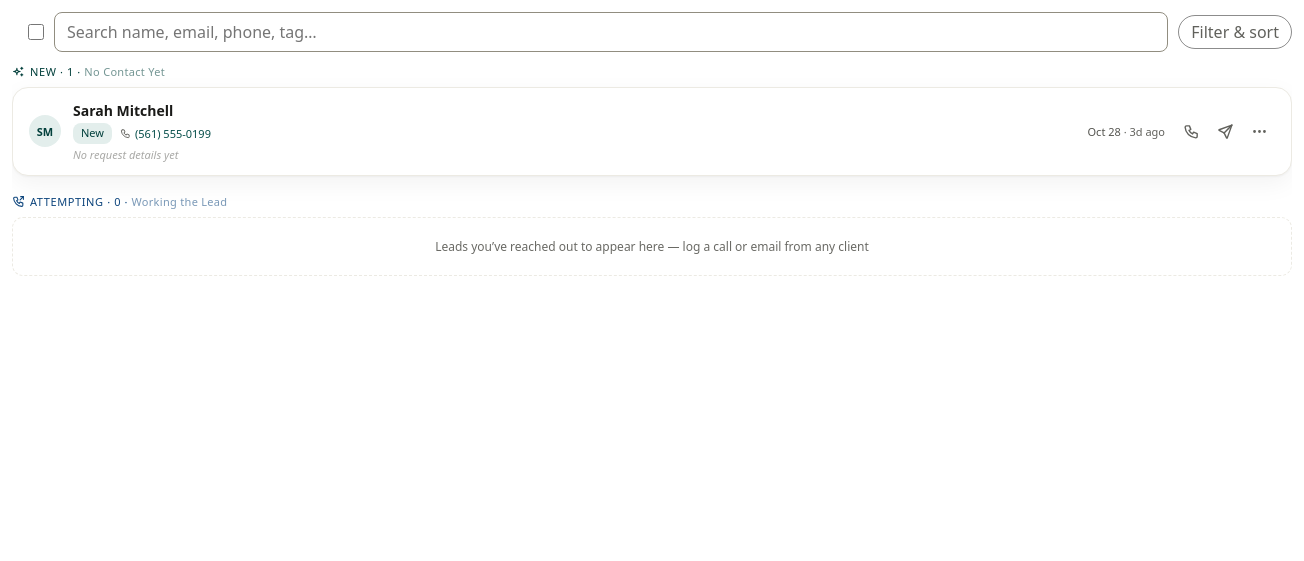
Test case: a new dismissal records who did it › still does exactly what dismiss always did to the lead
Click the button named "More" at x=1259, y=131, box [1243,115,1275,147]
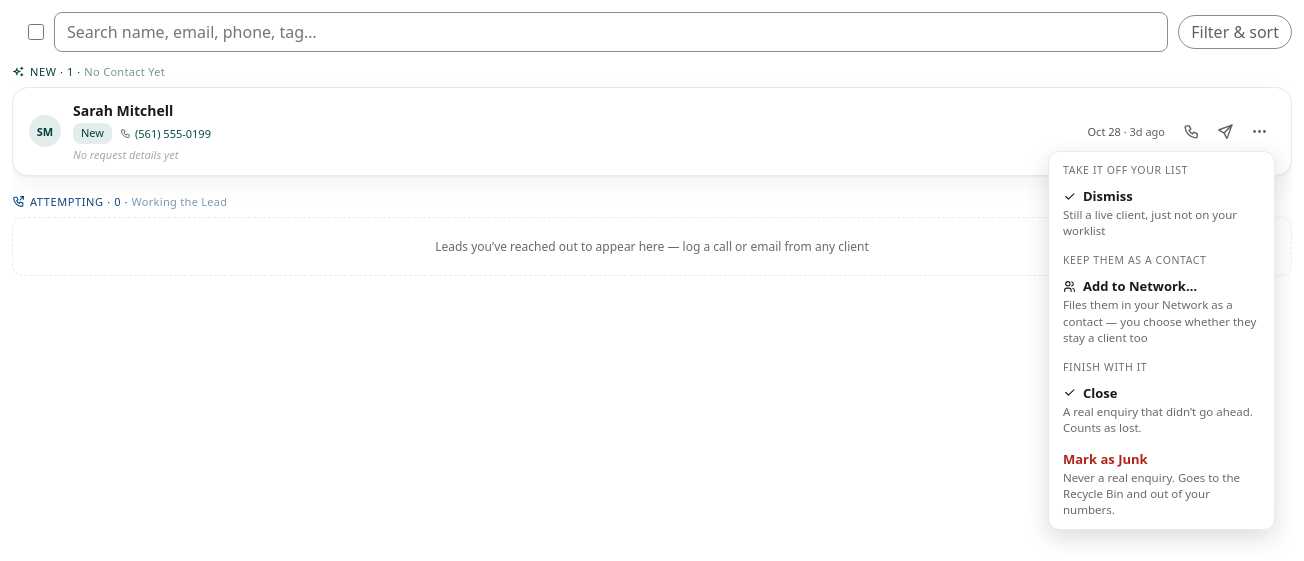
Click the button "Dismiss Still a live client, just not on your worklist" at x=1162, y=213, box [1053,180,1270,246]
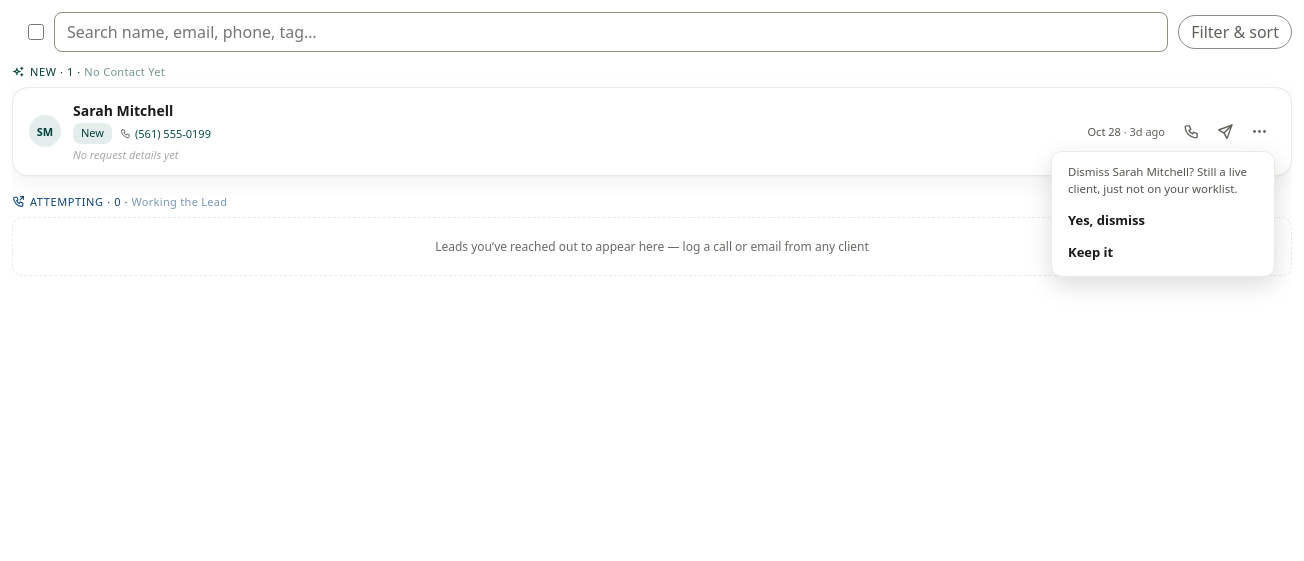
Click the button with test id "menu-confirm-dismiss-yes" at x=1163, y=220, box [1058,204,1268,236]
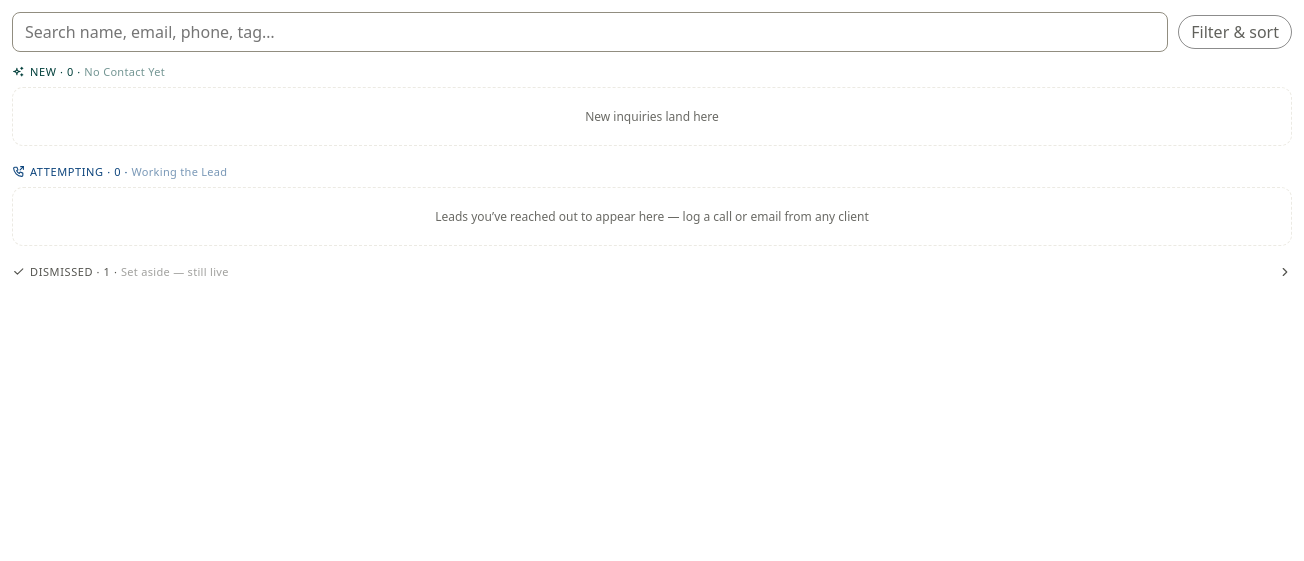
Now the text "Sarah Mitchell" is gone
